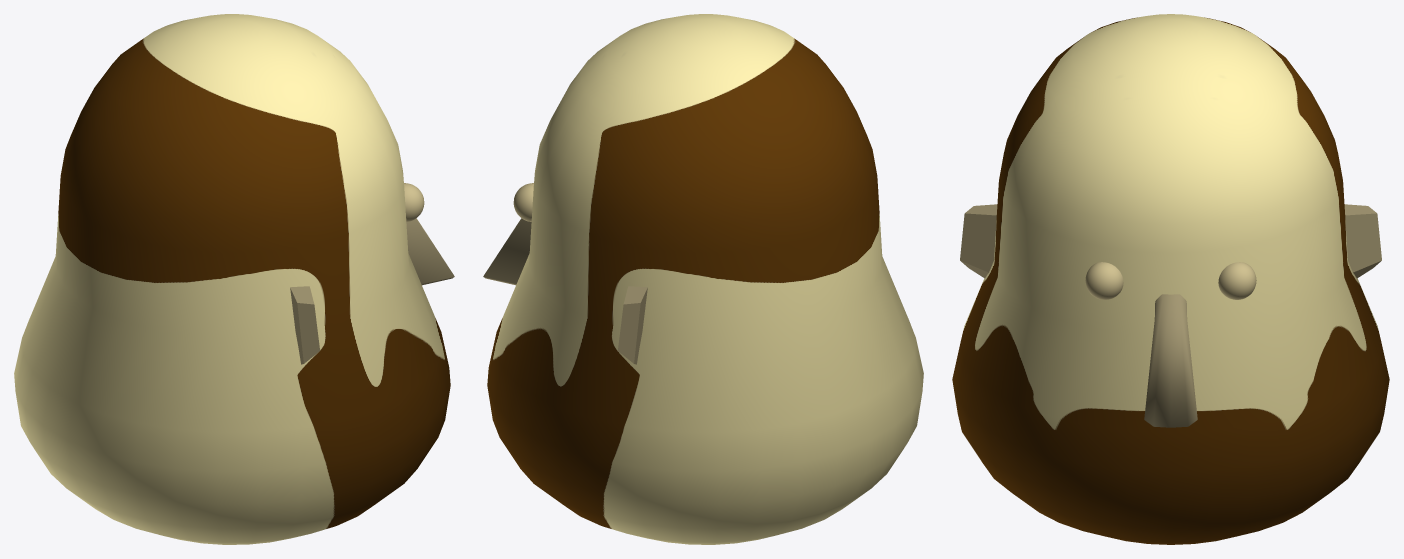
The model's file is brenthead.fbx.
The picture shows the model from 3 angles, left to right: view 1: azimuth 30°, elevation 25°; view 2: azimuth 150°, elevation 25°; view 3: azimuth 270°, elevation 25°; orthographic projection.
Parts seen in each view (by area): view 1: Head, Nose, Ears, Eyes; view 2: Head, Nose, Ears, Eyes; view 3: Head, Nose, Ears, Eyes.
Boxes of the visible parts, <box> form: Head: <box>14,14,450,544</box>; Nose: <box>406,218,454,285</box>; Ears: <box>290,286,319,364</box>; Eyes: <box>404,183,424,221</box>; Head: <box>487,14,923,544</box>; Nose: <box>483,218,531,285</box>; Ears: <box>618,286,647,364</box>; Eyes: <box>513,183,533,221</box>; Head: <box>952,14,1389,544</box>; Nose: <box>1144,294,1197,427</box>; Ears: <box>960,204,1381,278</box>; Eyes: <box>1085,262,1256,299</box>.
Bounding box in the file's own units: 267 × 303 × 251.
